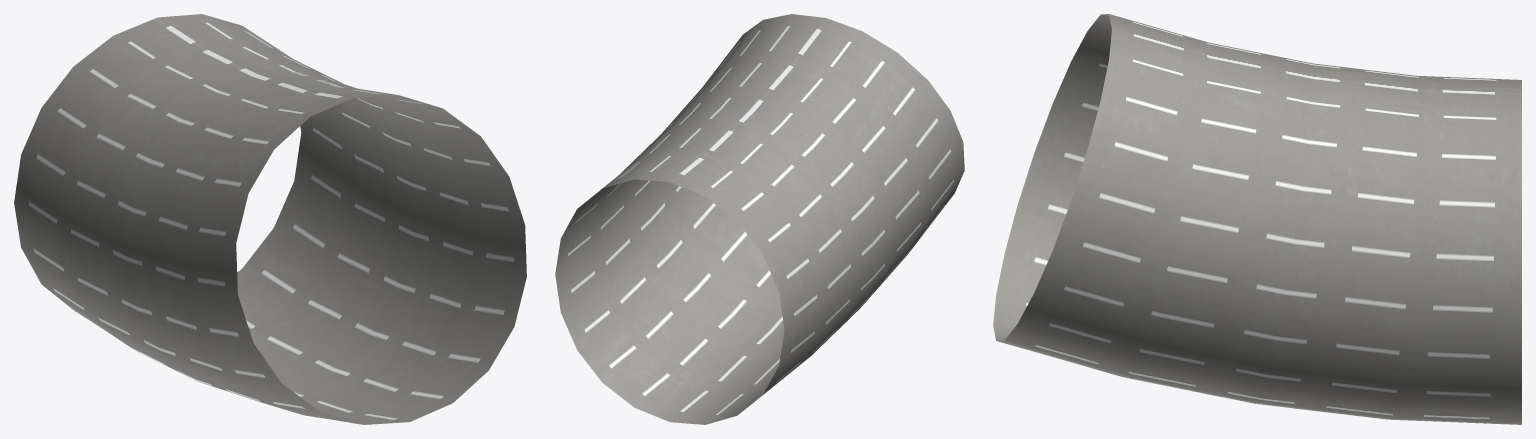
The model's file is s03_10degbend_aa.fbx.
The picture shows the model from 3 angles, left to right: view 1: azimuth 30°, elevation 25°; view 2: azimuth 150°, elevation 25°; view 3: azimuth 270°, elevation 25°; orthographic projection. The views are drawn at different scales.
Parts seen in each view (by area): view 1: VM; view 2: VM; view 3: VM.
Part boxes in pixels (<box>): VM: <box>14,14,526,424</box>; VM: <box>555,14,964,424</box>; VM: <box>993,14,1521,424</box>.
Bounding box in the file's own units: 76 × 91.8 × 116.
Materials: 1 (1 with a texture image).
